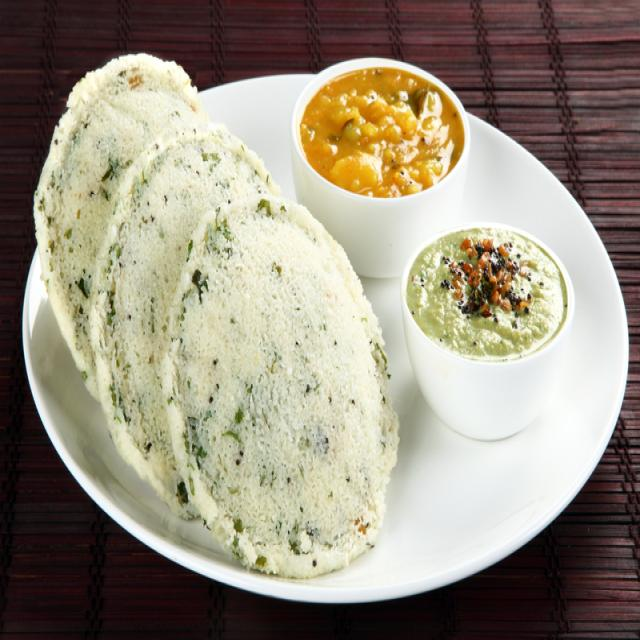rave idli: (162, 198, 398, 592), (90, 117, 268, 518), (31, 42, 187, 369)
